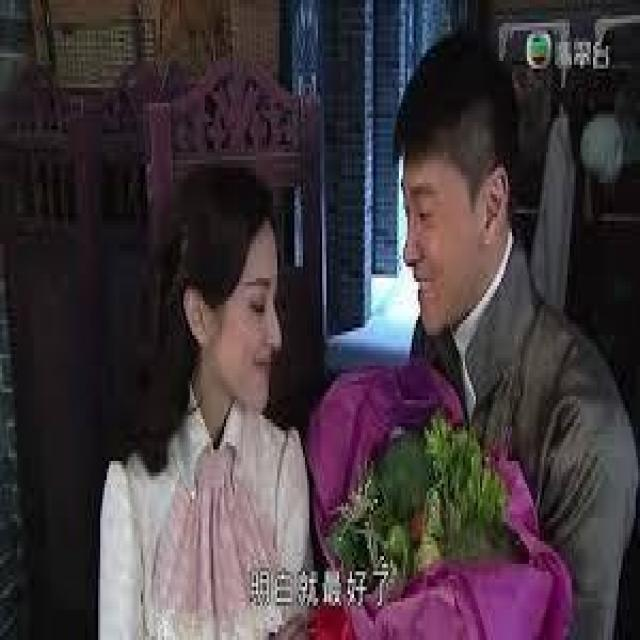organic waste: (356, 421, 508, 547)
